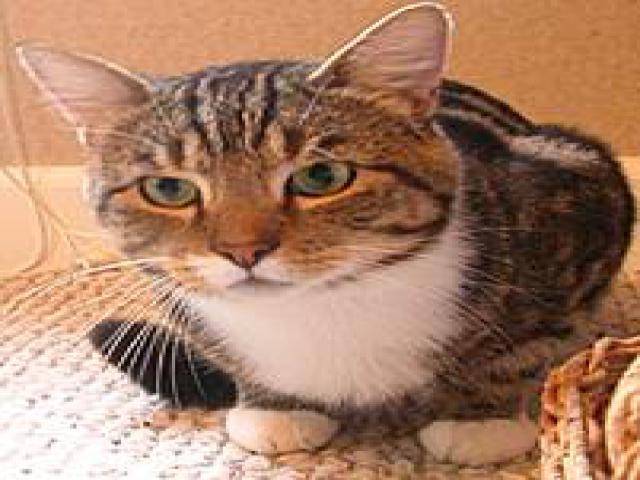cat: (34, 4, 588, 461)
